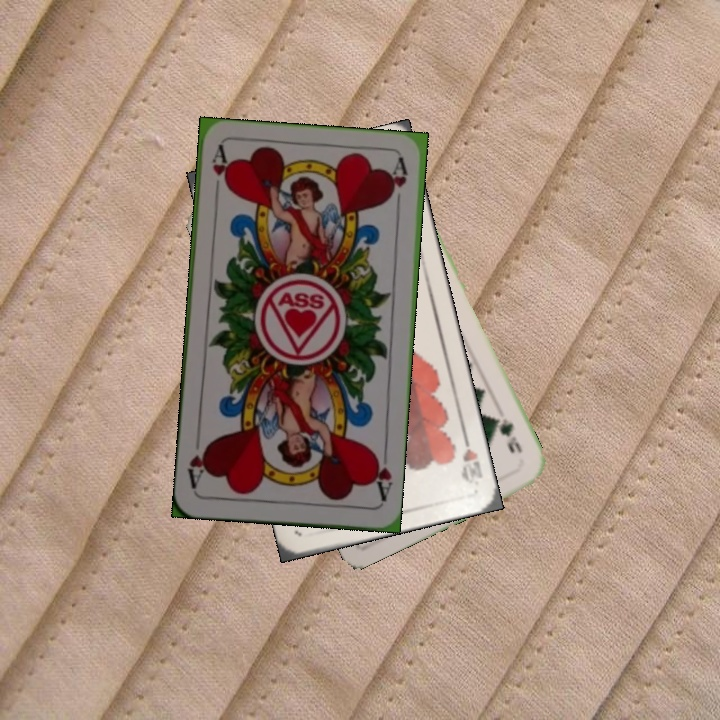G9: (489, 413, 525, 457)
H10: (457, 429, 486, 488)
HA: (368, 446, 395, 504), (208, 143, 231, 203)
